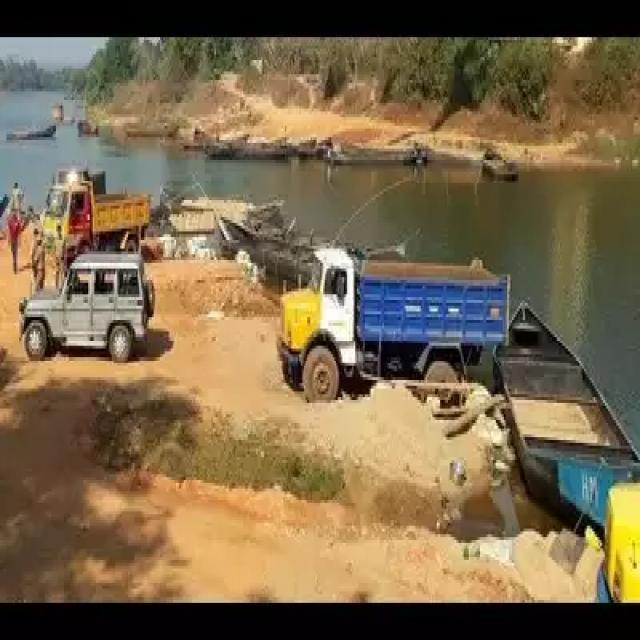uncovered: (362, 240, 511, 344), (44, 177, 154, 254)
